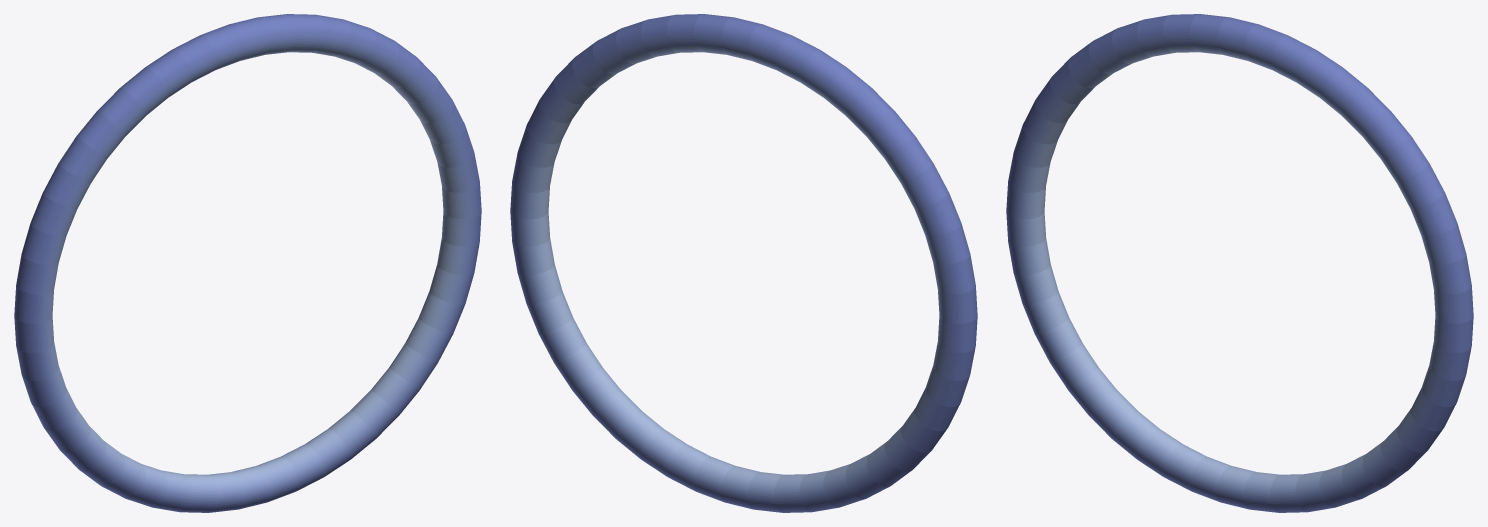
3 renders of one model, left to right at view 1: azimuth 30°, elevation 25°; view 2: azimuth 150°, elevation 25°; view 3: azimuth 330°, elevation 25°, orthographic.
Visible parts, largest first — view 1: world; view 2: world; view 3: world.
Boxes of the visible parts, <box> form: world: <box>14,14,481,512</box>; world: <box>510,14,977,512</box>; world: <box>1006,14,1473,512</box>.
Bounding box in the file's own units: 31.6 × 31.54 × 2.26.
